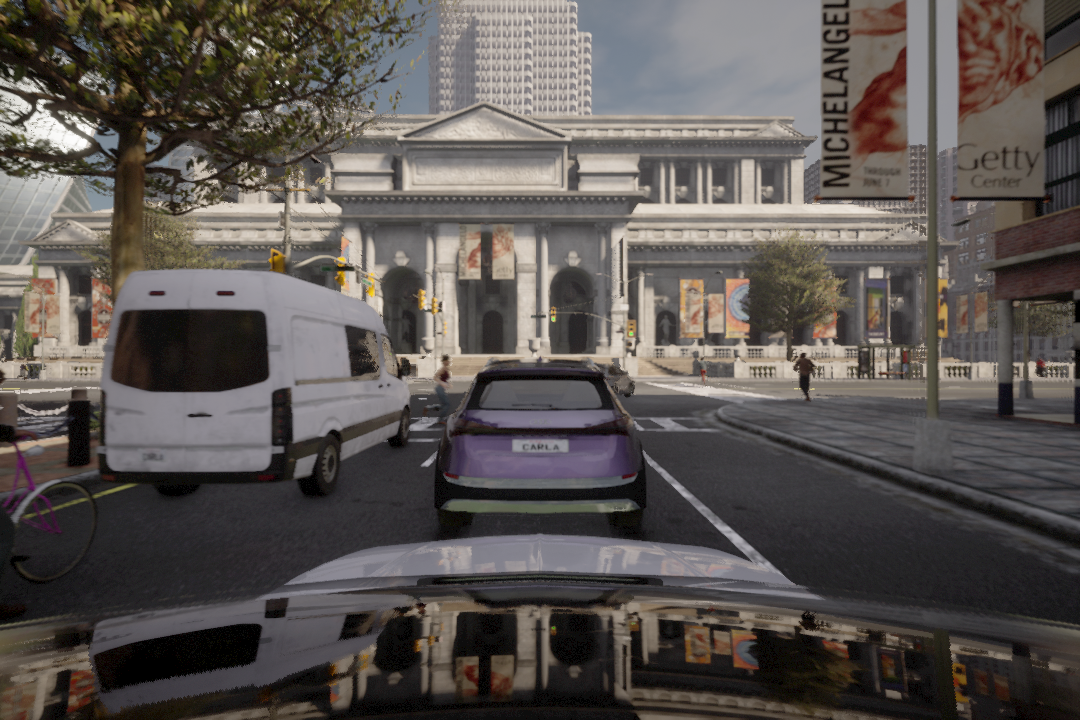TrafficLight: (627, 321, 637, 341), (547, 306, 558, 324)
